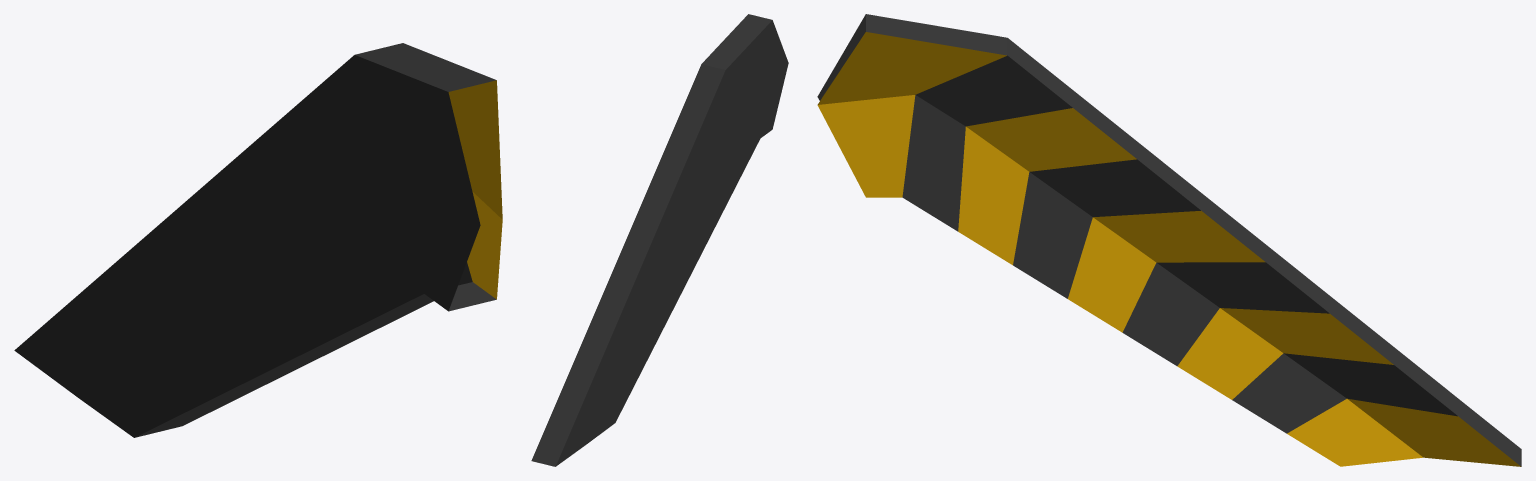
File: road_fence_chunk_desc.fbx
3 views of the same model, side by side, from view 1: azimuth 30°, elevation 25°; view 2: azimuth 150°, elevation 25°; view 3: azimuth 270°, elevation 25° (orthographic). The views are drawn at different scales.
Visible parts, largest first — view 1: Cube.002; view 2: Cube.002; view 3: Cube.002.
Part boxes in pixels (left/top/right/bottom): Cube.002: left=14, top=43, right=502, bottom=437; Cube.002: left=531, top=14, right=788, bottom=466; Cube.002: left=817, top=14, right=1521, bottom=466.
Size of the model in its own units: 28.14 by 320 by 469.
